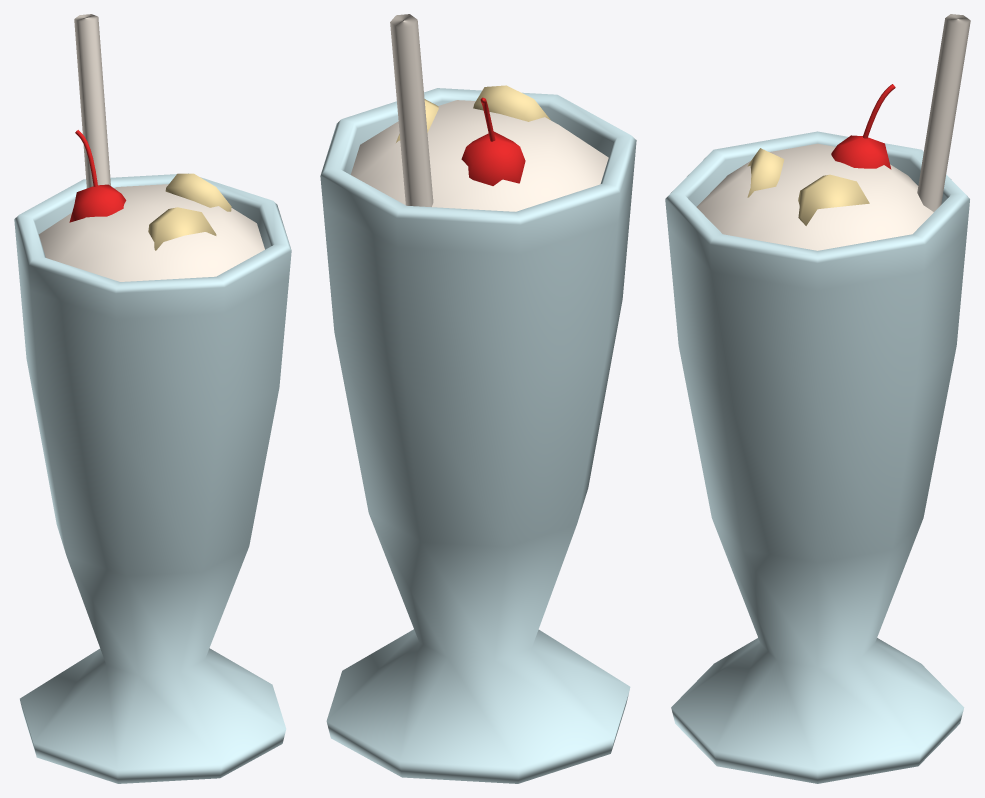
File: Shake.fbx
The picture shows the model from 3 angles, left to right: view 1: azimuth 30°, elevation 25°; view 2: azimuth 150°, elevation 25°; view 3: azimuth 270°, elevation 25°; orthographic projection. The views are drawn at different scales.
Visible parts, largest first — view 1: Shake; view 2: Shake; view 3: Shake.
Part boxes in pixels (x1,y1,x2,y2): Shake: (14, 14, 291, 783); Shake: (320, 14, 636, 783); Shake: (665, 14, 970, 783).
Size of the model in its own units: 16.12 by 41.16 by 16.15.
